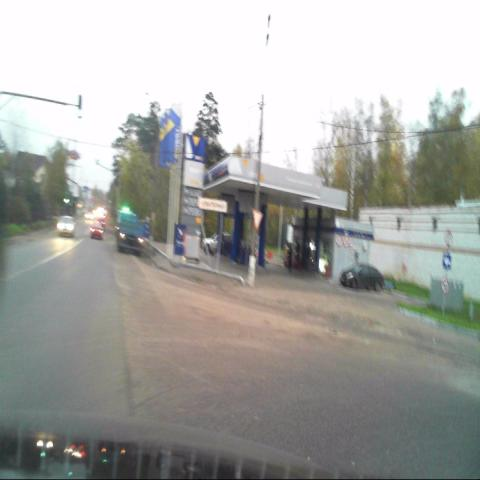2_4: (252, 207, 262, 232)
